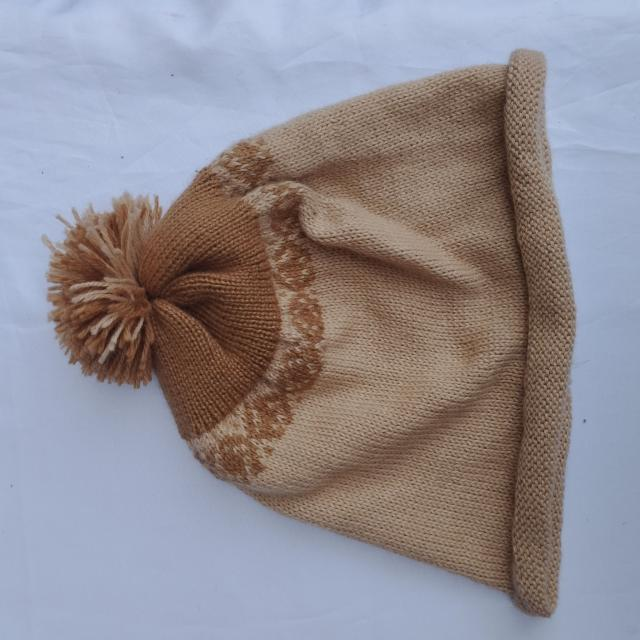Gorro: (42, 47, 577, 618)
